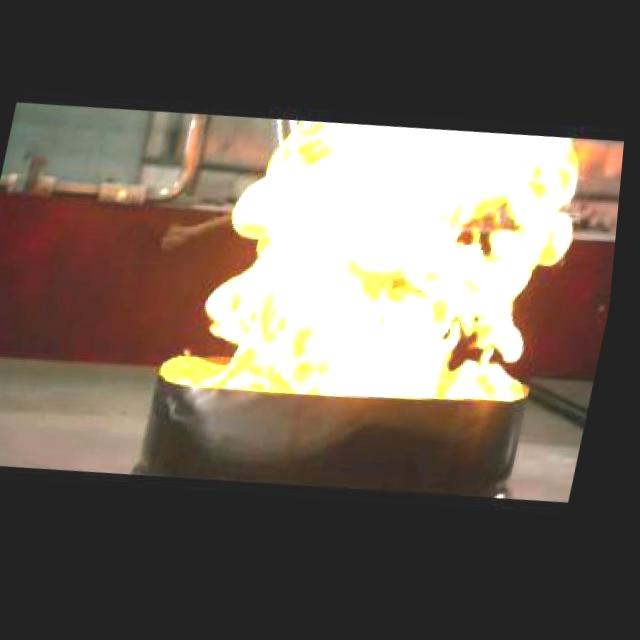no_helmet: (170, 106, 592, 426)
